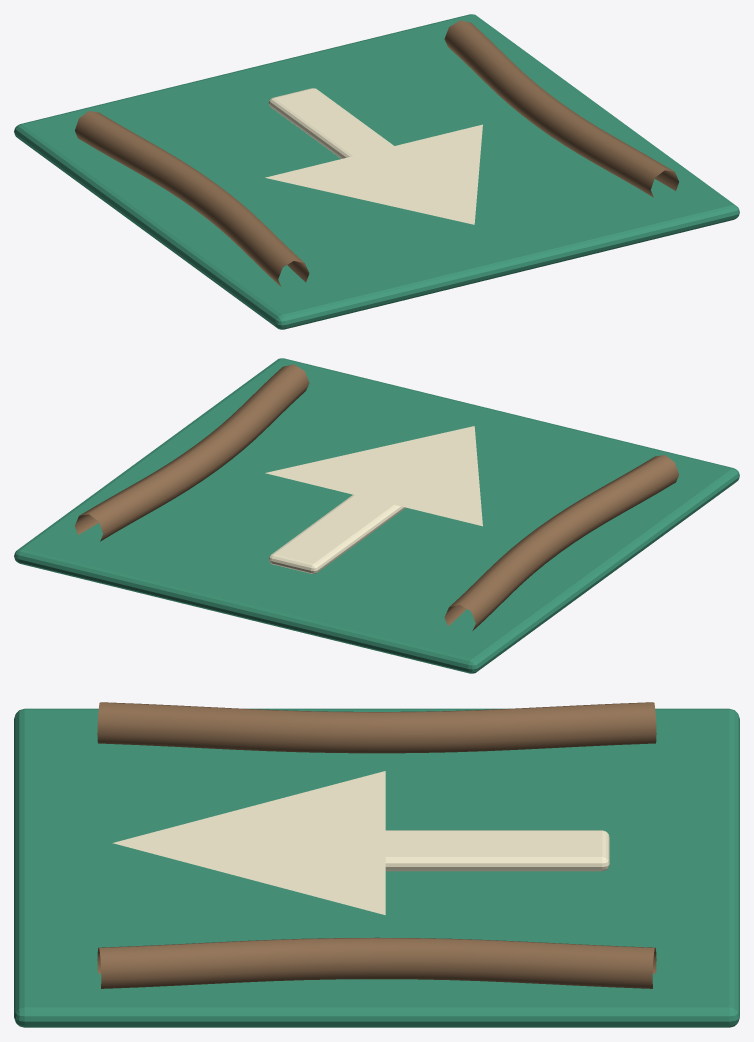
Rendered from rainforest_arrow.glb.
3 renders of one model, top to bottom at view 1: azimuth 30°, elevation 25°; view 2: azimuth 150°, elevation 25°; view 3: azimuth 270°, elevation 25°, orthographic. The views are drawn at different scales.
Parts seen in each view (by area): view 1: Batched V2 rainforest leaf, Batched V2 rainforest wood, Batched V2 rainforest ivory; view 2: Batched V2 rainforest leaf, Batched V2 rainforest wood, Batched V2 rainforest ivory; view 3: Batched V2 rainforest leaf, Batched V2 rainforest wood, Batched V2 rainforest ivory.
Boxes of the visible parts, bbox=[...] form: Batched V2 rainforest leaf: bbox=[14, 14, 739, 329]; Batched V2 rainforest wood: bbox=[75, 20, 678, 286]; Batched V2 rainforest ivory: bbox=[265, 88, 482, 224]; Batched V2 rainforest leaf: bbox=[14, 358, 739, 673]; Batched V2 rainforest wood: bbox=[75, 364, 678, 630]; Batched V2 rainforest ivory: bbox=[265, 426, 482, 573]; Batched V2 rainforest leaf: bbox=[14, 708, 739, 1027]; Batched V2 rainforest wood: bbox=[97, 702, 656, 988]; Batched V2 rainforest ivory: bbox=[112, 771, 609, 915].
Size of the model in its own units: 1.7 by 0.135 by 1.7.
